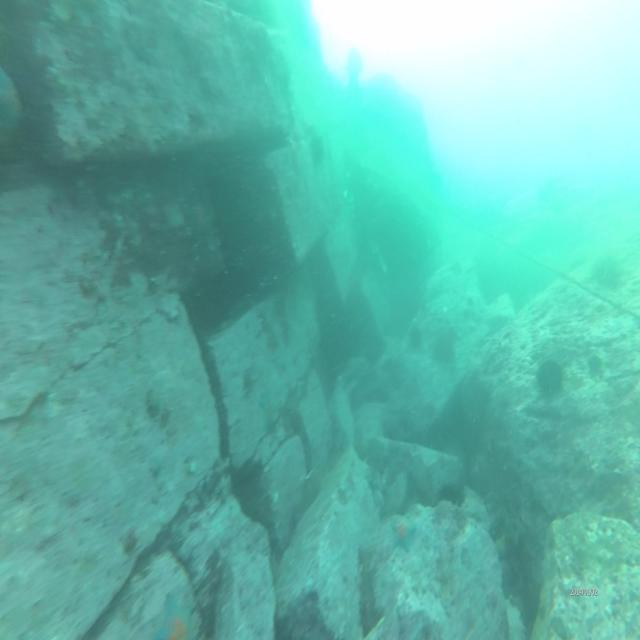echinus: (537, 358, 565, 402), (309, 135, 325, 169), (409, 326, 424, 352), (589, 353, 603, 376)
starfish: (151, 595, 198, 640), (390, 515, 414, 553)
